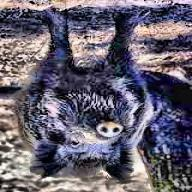boar: (13, 14, 170, 184)
